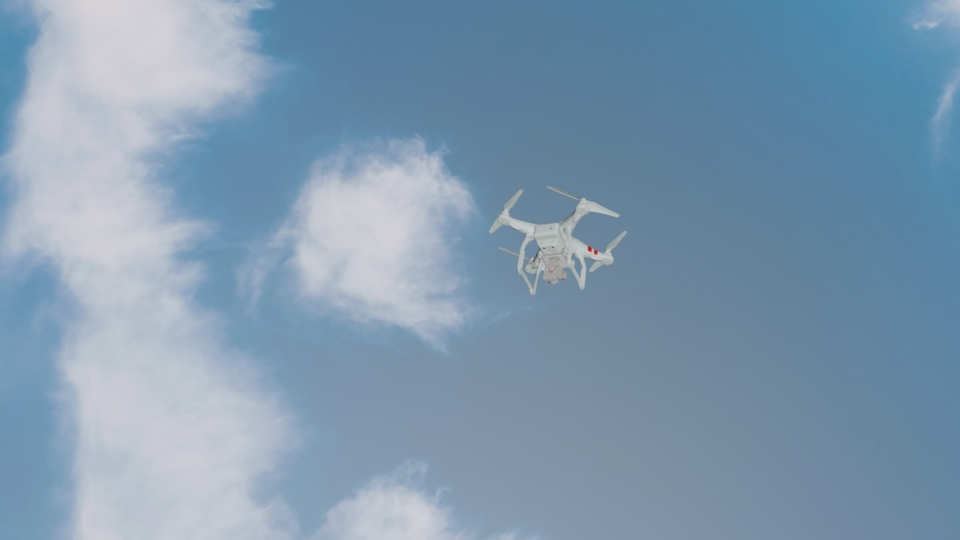drone: (492, 183, 629, 294)
